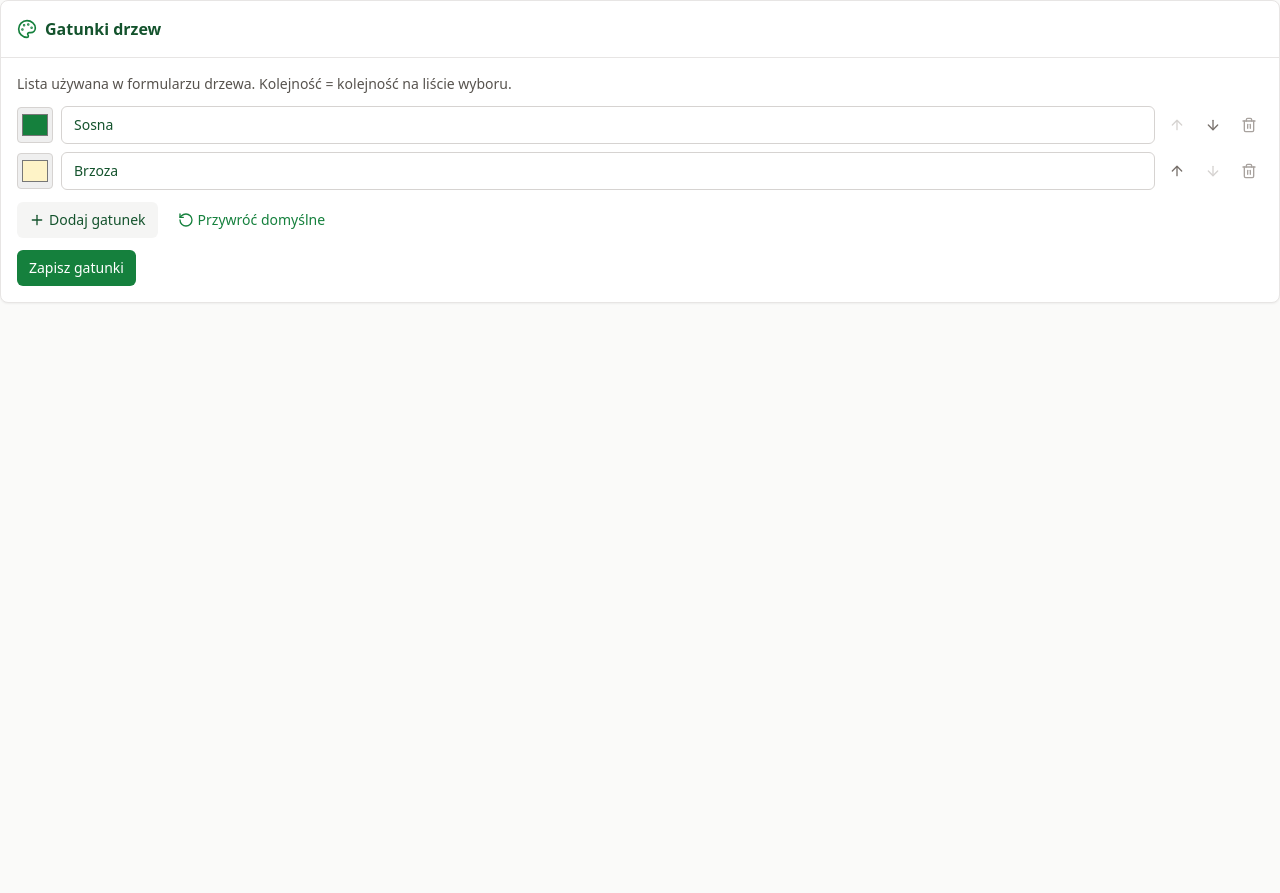
Test: SpeciesEditor › should restore default species list on reset
Click the button with test id "species-reset" at (251, 220), box [166, 202, 337, 238]
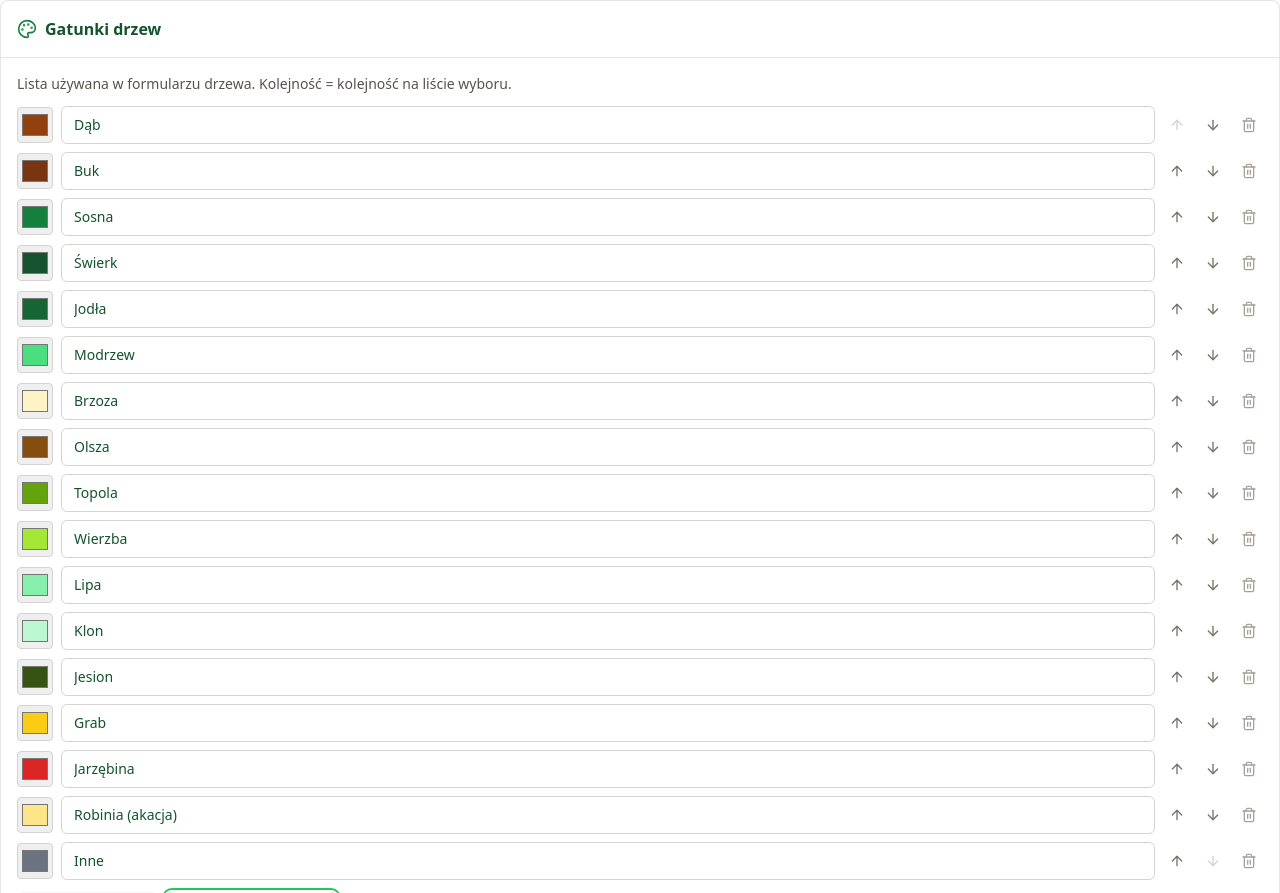
Check: the field showing "Dąb" is shown, box [61, 106, 1155, 144]
